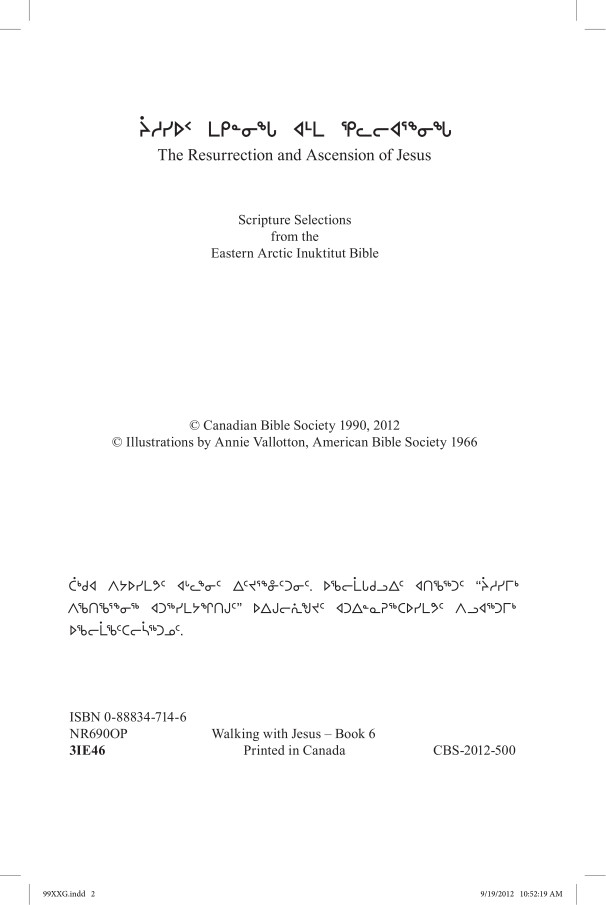inuktitut: (60, 569, 529, 642), (130, 102, 461, 144)
latin: (102, 412, 482, 450), (196, 203, 395, 267), (56, 699, 193, 766), (204, 718, 381, 766), (155, 141, 442, 167), (423, 737, 518, 766)
